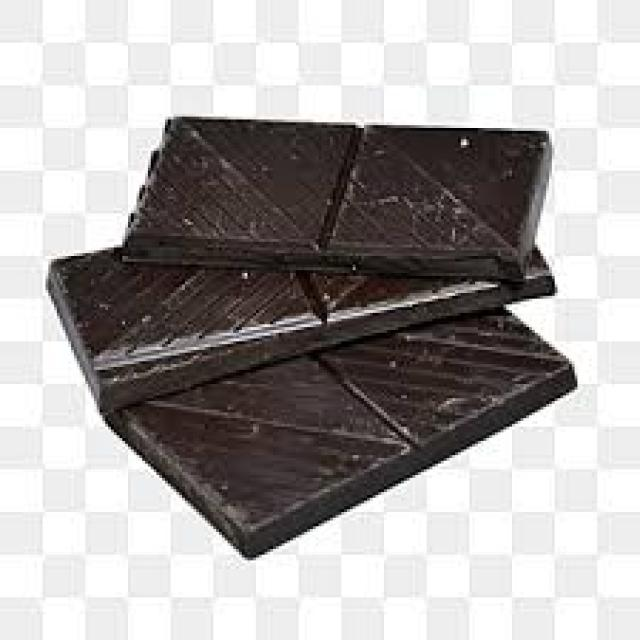Chocolate: (47, 114, 577, 567)
